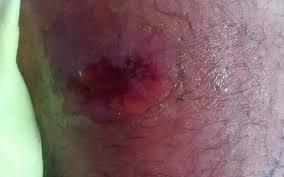Spider: (57, 16, 202, 154)
